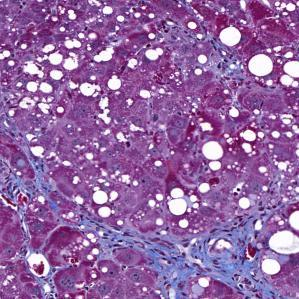fibrosis: (84, 225, 262, 295)
